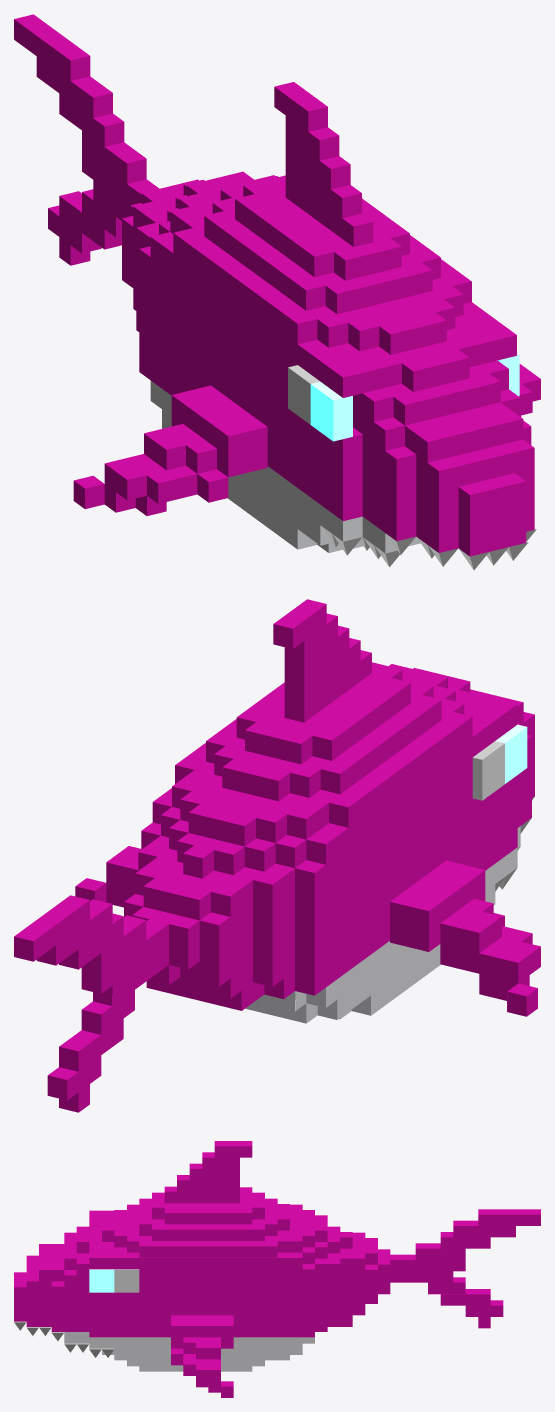
File: shark.glb
3 renders of one model, top to bottom at view 1: azimuth 30°, elevation 25°; view 2: azimuth 150°, elevation 25°; view 3: azimuth 270°, elevation 25°, orthographic. The views are drawn at different scales.
Parts seen in each view (by area): view 1: Cube.005; view 2: Cube.005; view 3: Cube.005.
Boxes of the visible parts, <box> form: Cube.005: <box>14,14,540,569</box>; Cube.005: <box>14,599,540,1112</box>; Cube.005: <box>14,1141,540,1397</box>.
Size of the model in its own units: 60.06 by 46.8 by 109.
